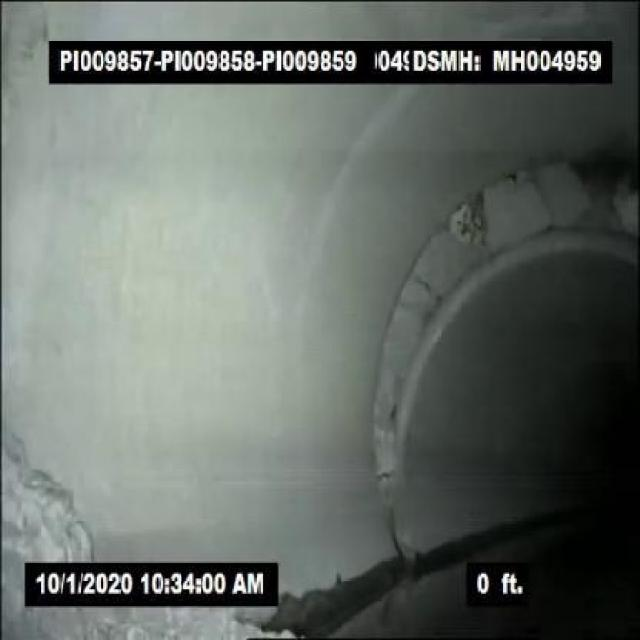Joint offset: (414, 141, 634, 277), (363, 325, 429, 509)
